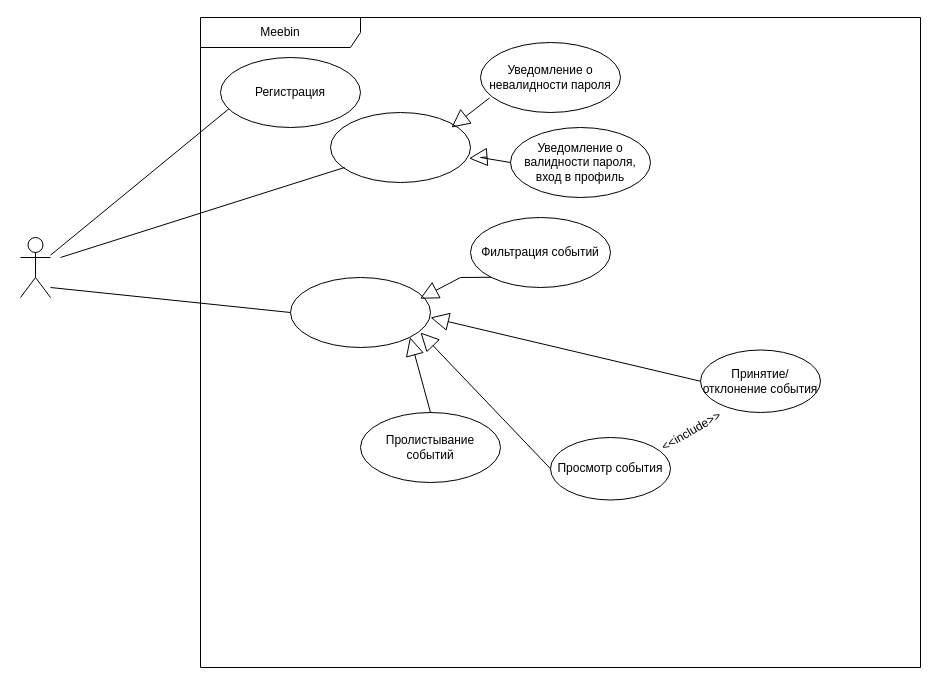
Image size: 938x685. Some labels were removed from this diagram. The shapes that lost their labels are listed below. From the top down, each one's box as (x1, y1, x2, y2) in pixels, then its label:
(330, 112, 470, 182): Авторизация
(20, 236, 50, 298): Админ
(290, 276, 430, 348): Просмотр событий по городу
